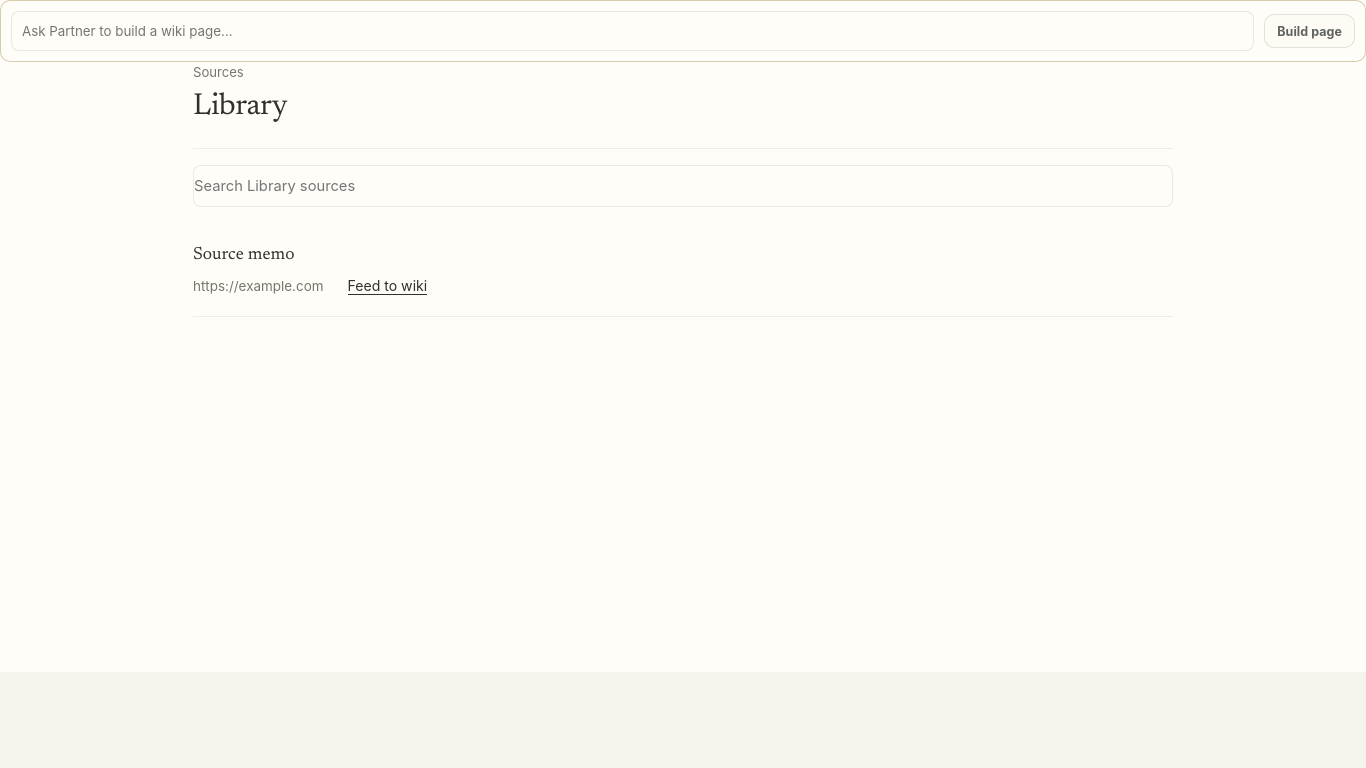
Scenario: WikiWorkspace › persists a review decision for an ingest update plan
Click the button "Feed to wiki". click: (387, 286)
box: [348,278,427,296]
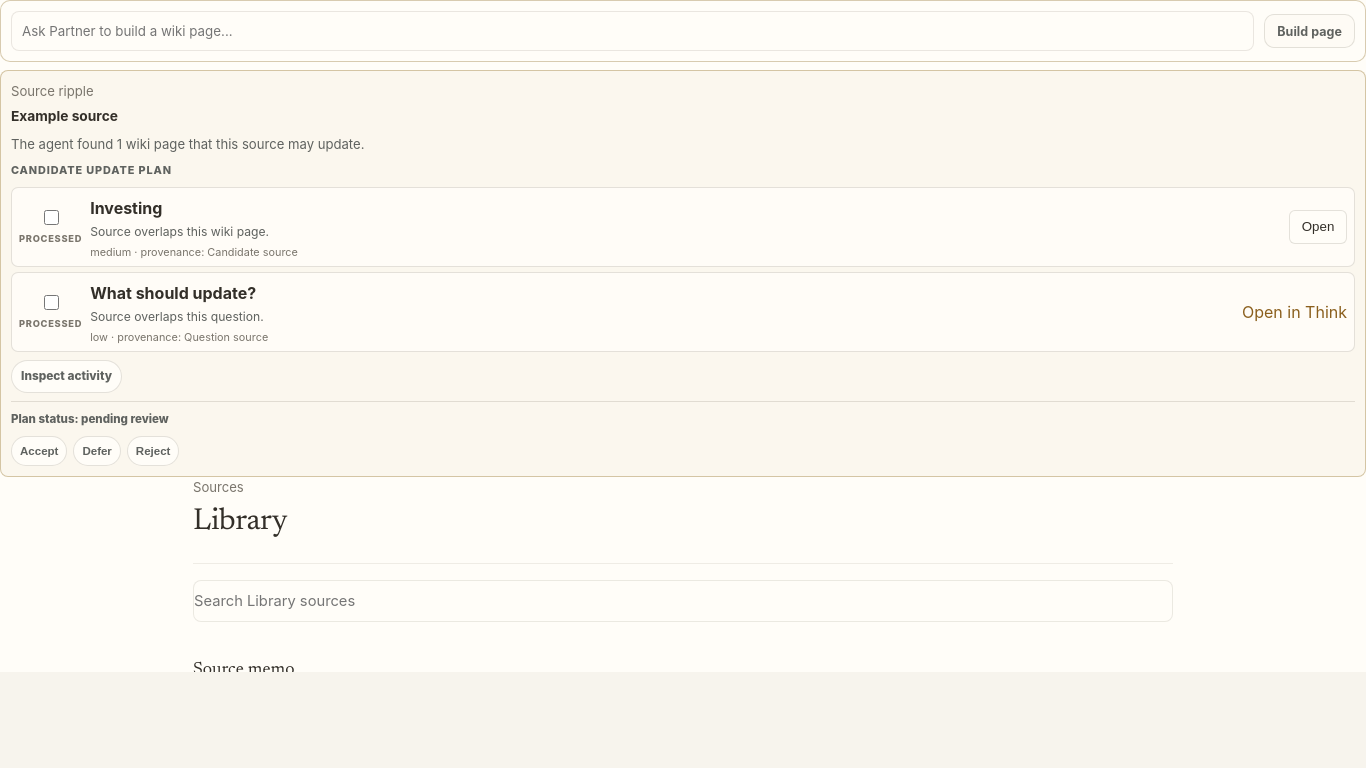
Result: the element named "Review ingest plan" shows "Plan status: pending review" at [11,401,1355,466]
Click the checkbox named "Select update for What should update?". click: (51, 303)
box: [44,295,59,310]
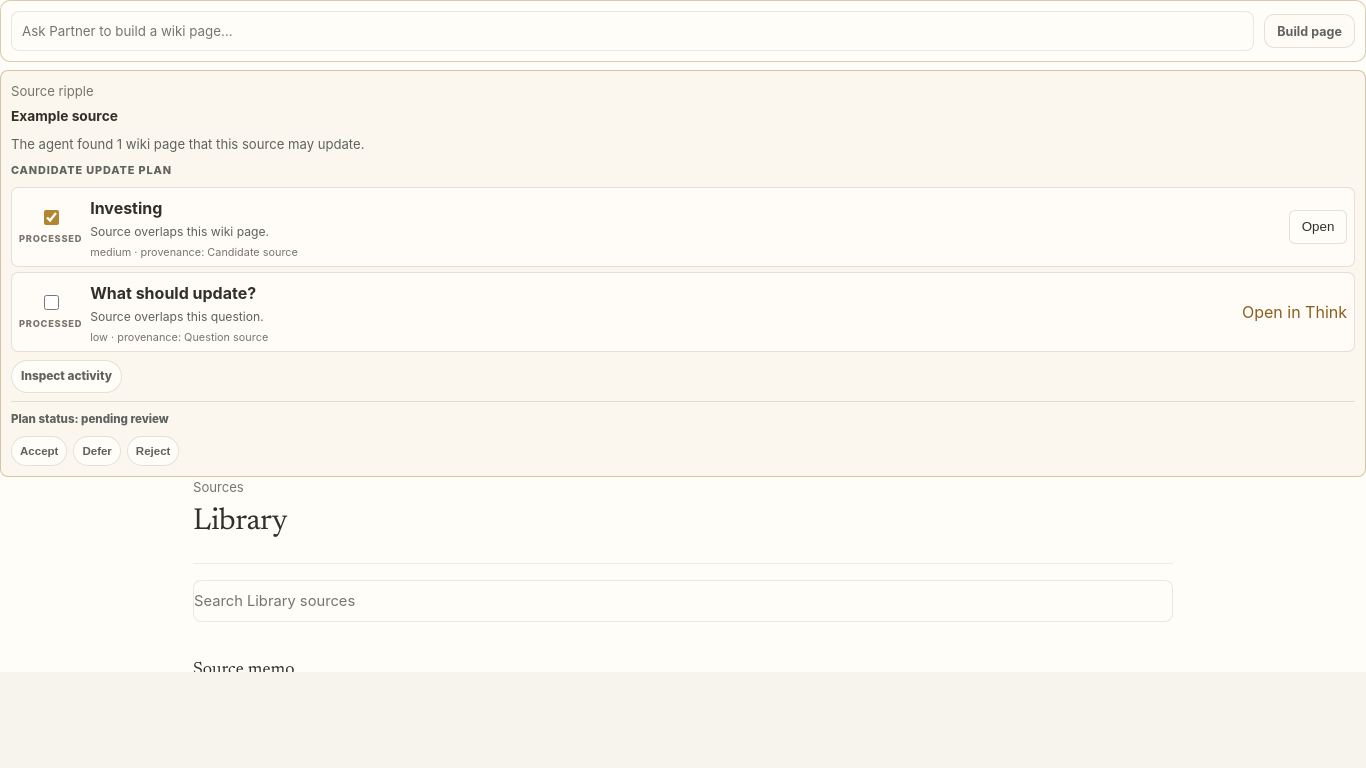
Click the button "Accept". click: (39, 451)
box: [11,436,67,466]
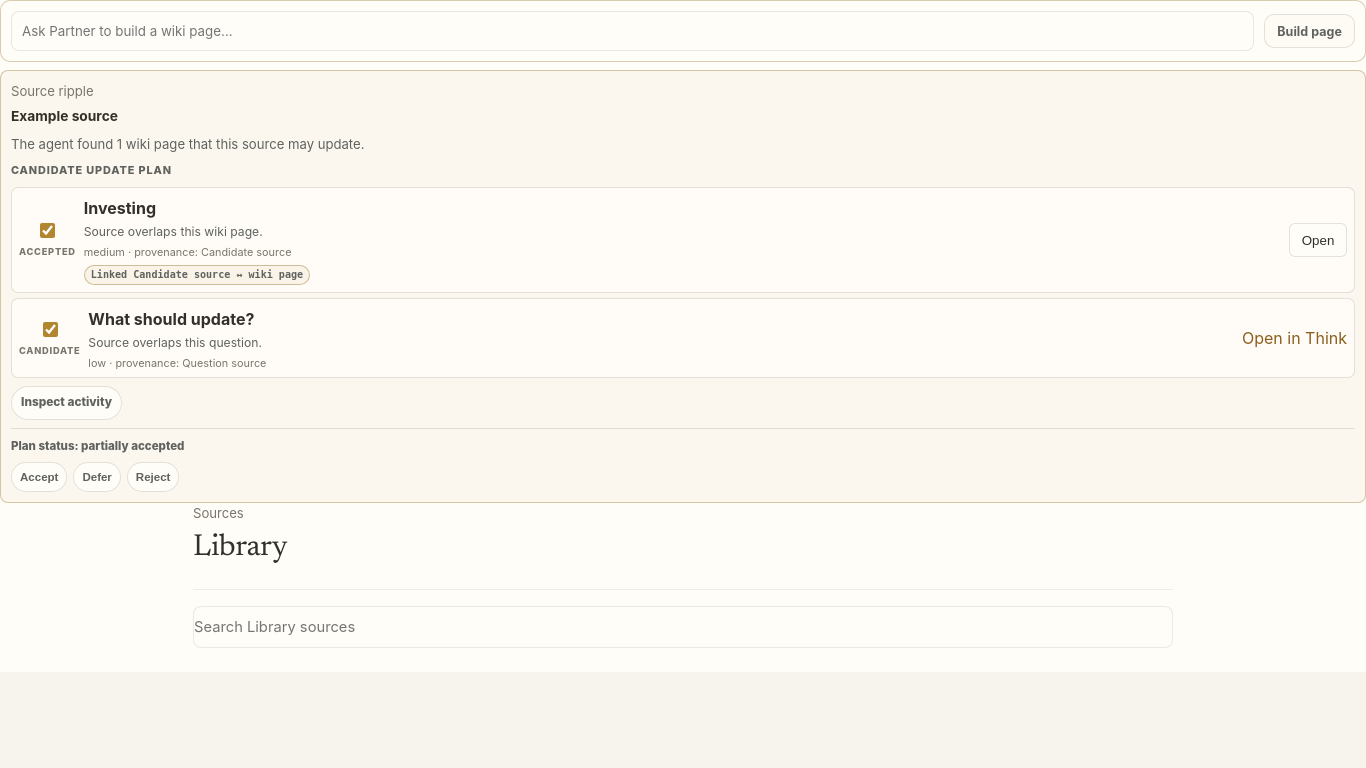
Result: the element named "Review ingest plan" shows "Plan status: partially accepted" at [11,428,1355,492]
Result: the text "Linked Candidate source ↔ wiki page" is shown at [84,265,310,285]
